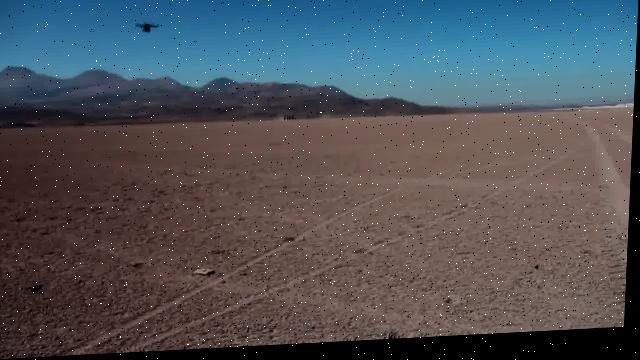drone: (135, 20, 163, 37)
